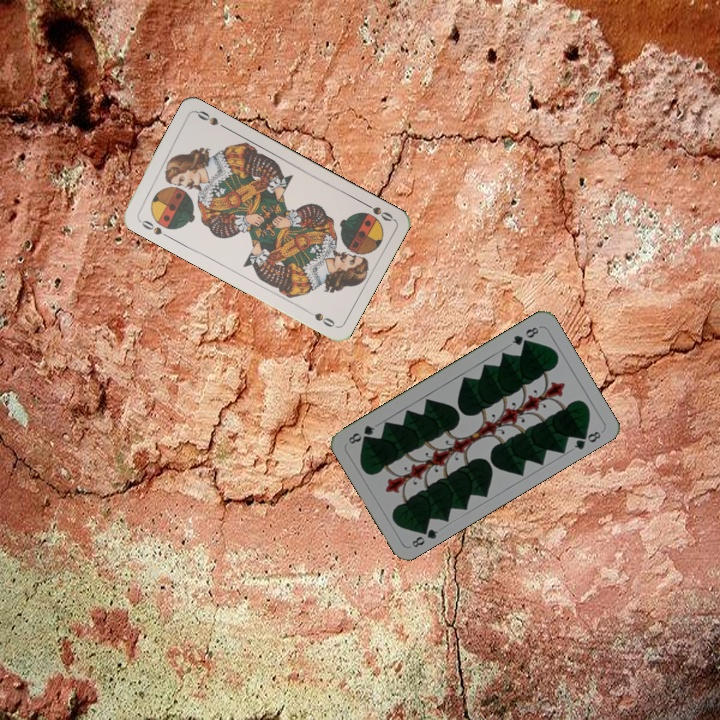G8: (408, 522, 441, 550), (508, 323, 543, 348)
SO: (358, 198, 396, 224), (134, 215, 165, 238)
